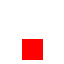square: (22, 39, 42, 59)
